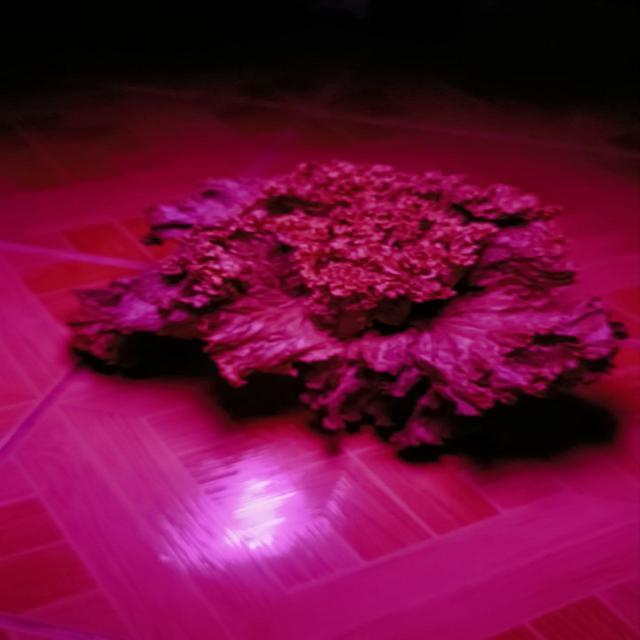Lettuce-Ready-to-Harvest: (61, 153, 634, 463)
